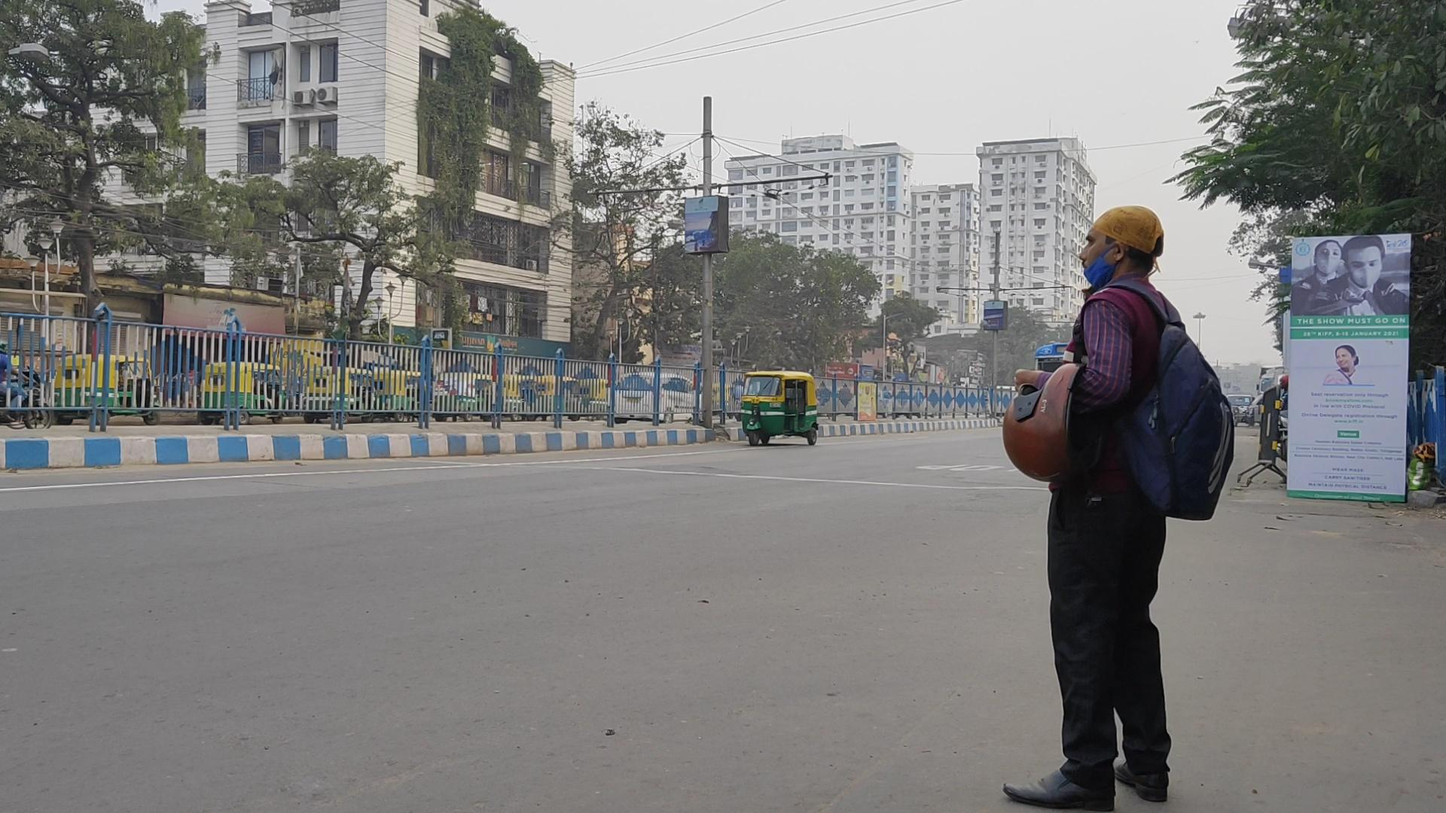Auto: (737, 370, 819, 447)
